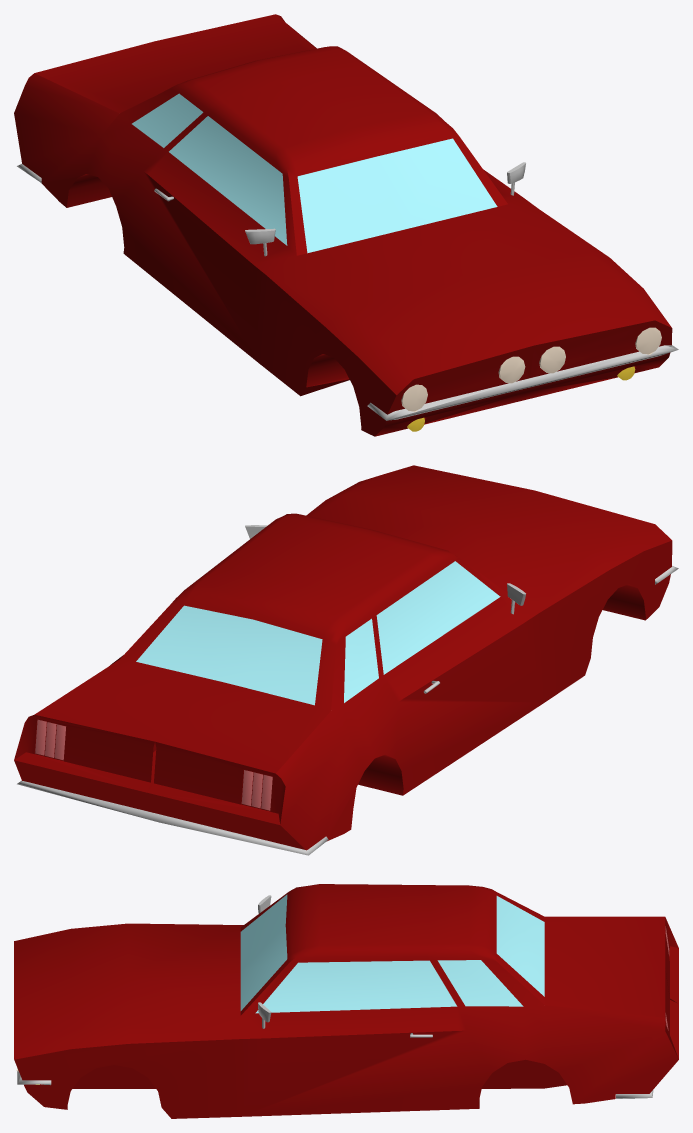
File: mustang.fbx
3 renders of one model, top to bottom at view 1: azimuth 30°, elevation 25°; view 2: azimuth 150°, elevation 25°; view 3: azimuth 270°, elevation 25°, orthographic. The views are drawn at different scales.
Parts seen in each view (by area): view 1: car body, bumper front, mirror; view 2: car body, bumper back; view 3: car body, mirror.
Part boxes in pixels (x1,y1,x2,y2): car body: (14, 14, 672, 436); bumper front: (367, 345, 678, 420); mirror: (245, 162, 525, 256); car body: (14, 465, 672, 850); bumper back: (17, 780, 328, 855); car body: (14, 884, 678, 1118); mirror: (258, 895, 271, 1028).
Size of the model in its own units: 2.06 by 1.15 by 4.72.
2 materials, 2 textured.
